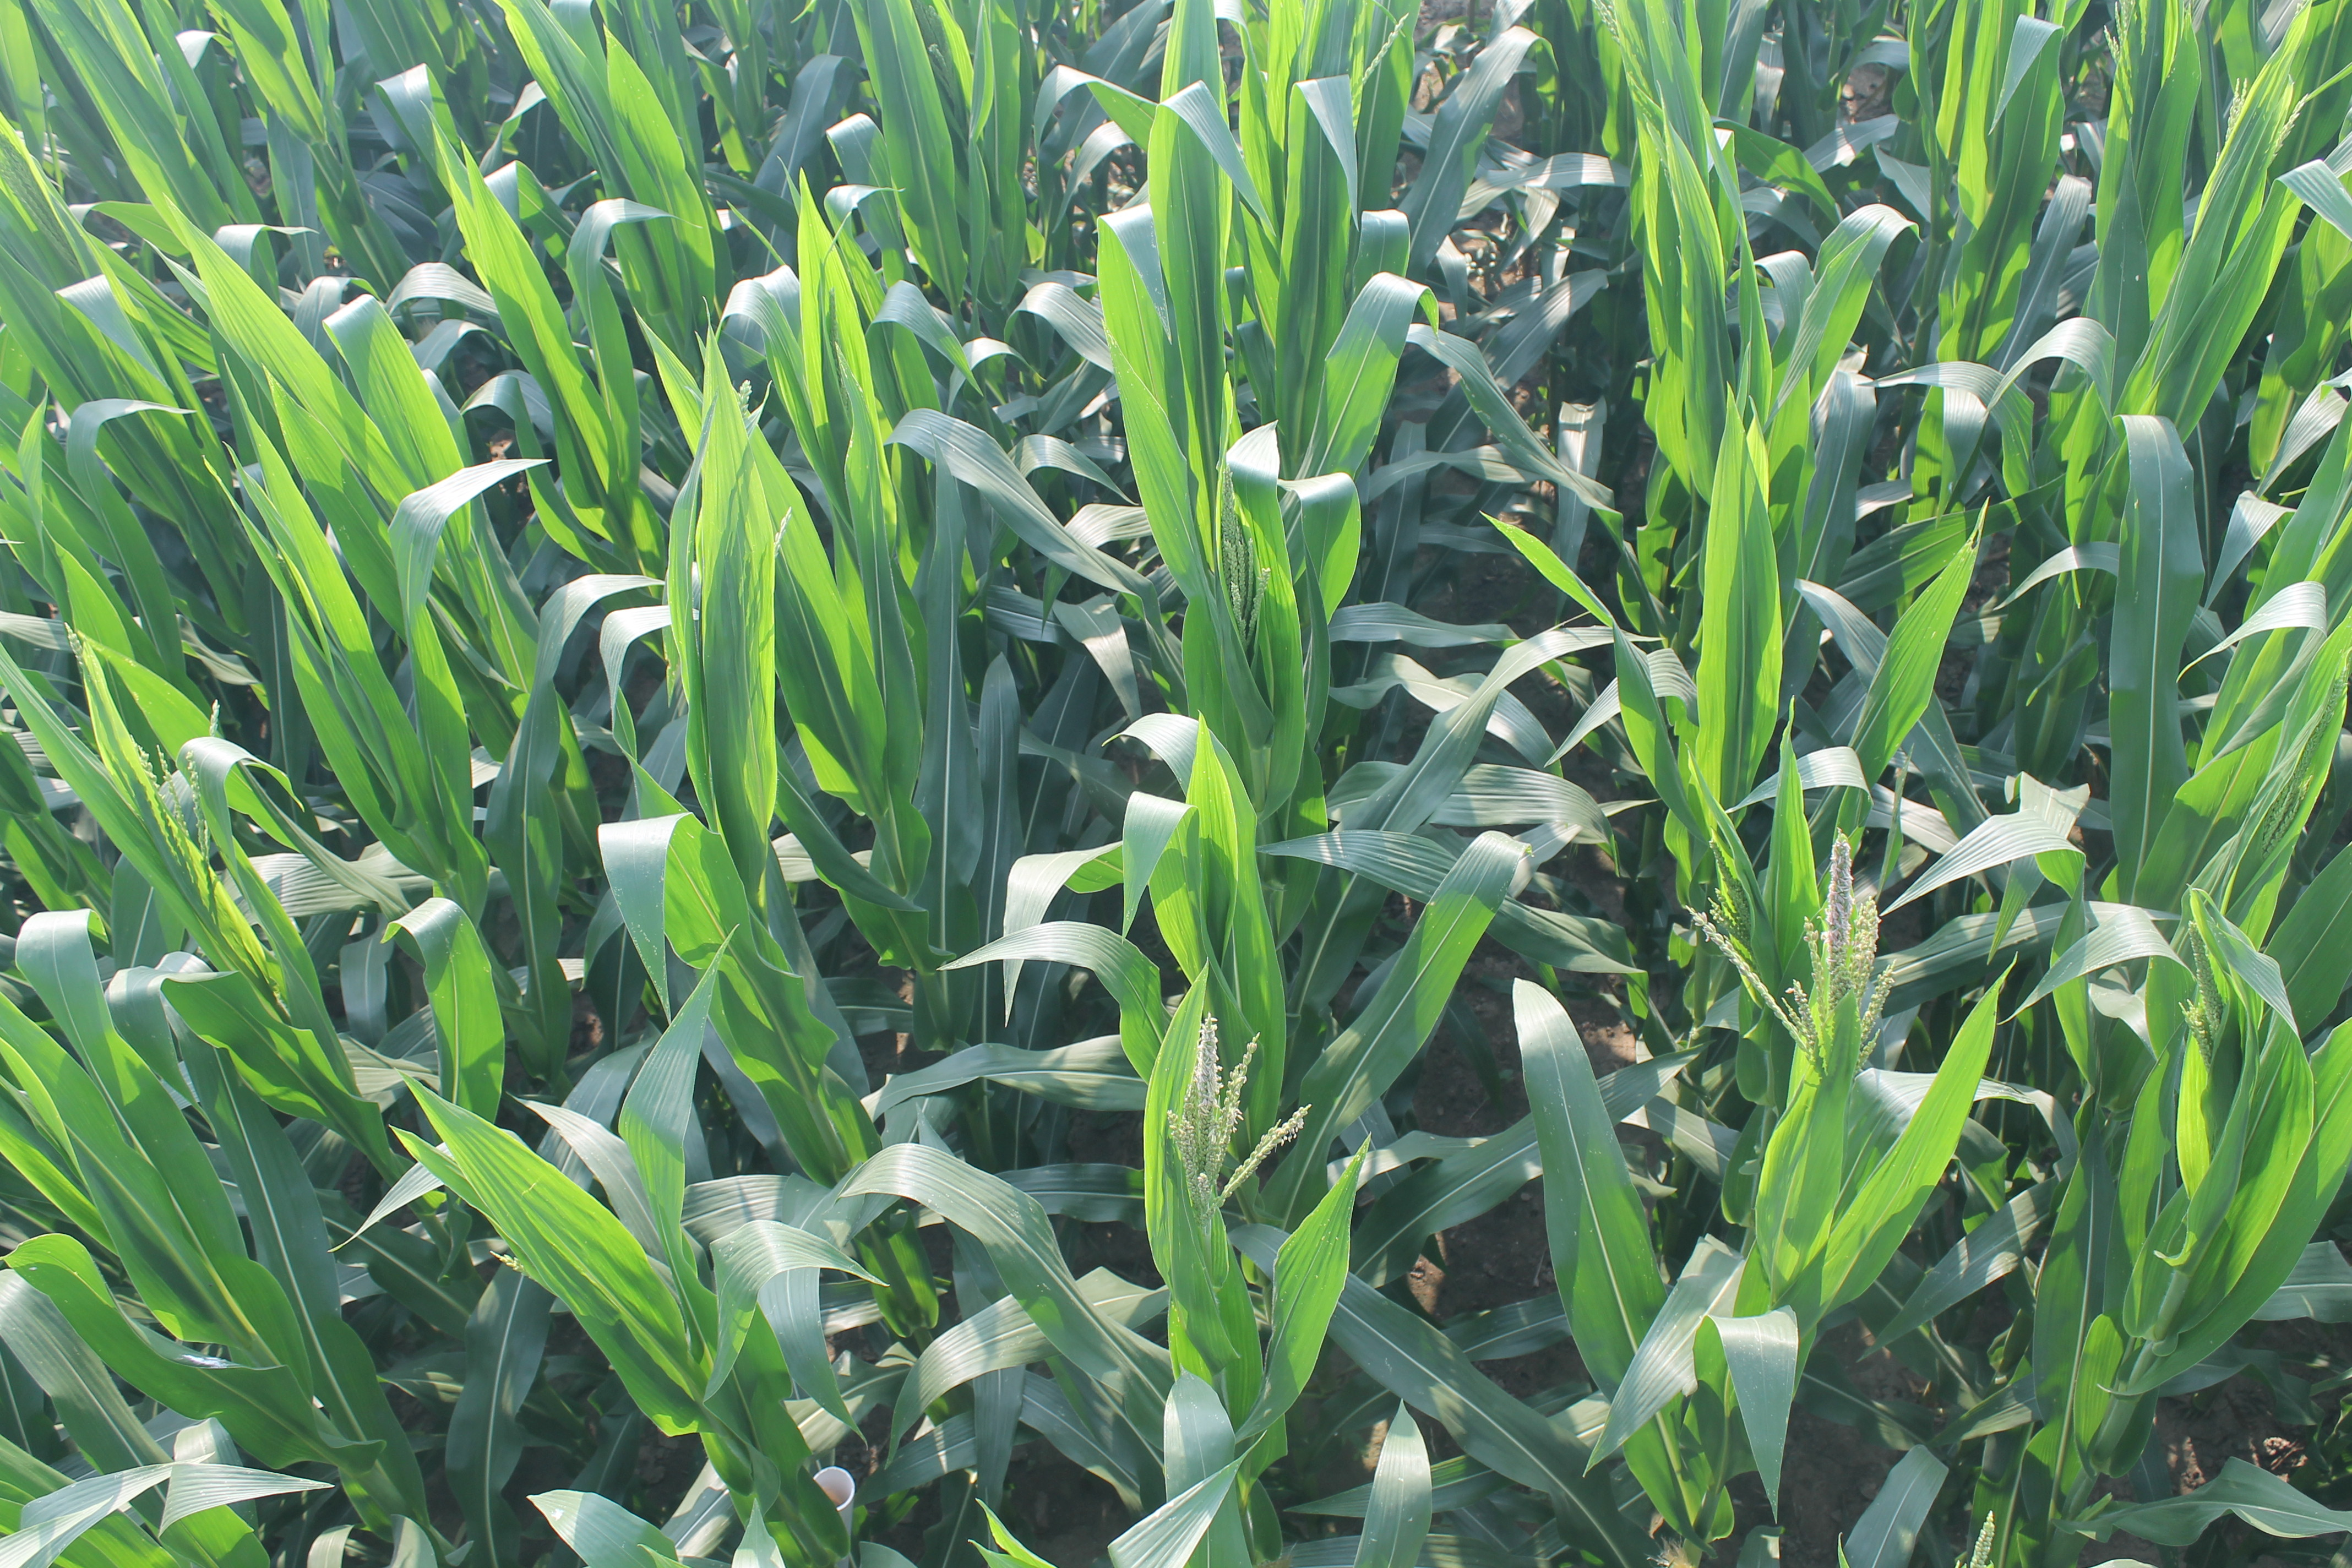Maize: (1178, 1018, 1318, 1213), (1783, 831, 1897, 1048)
